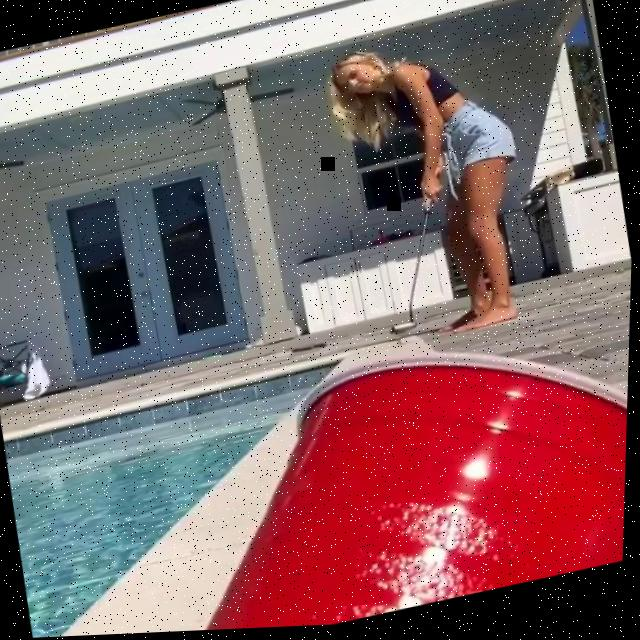ClubHead: (392, 324, 420, 337)
